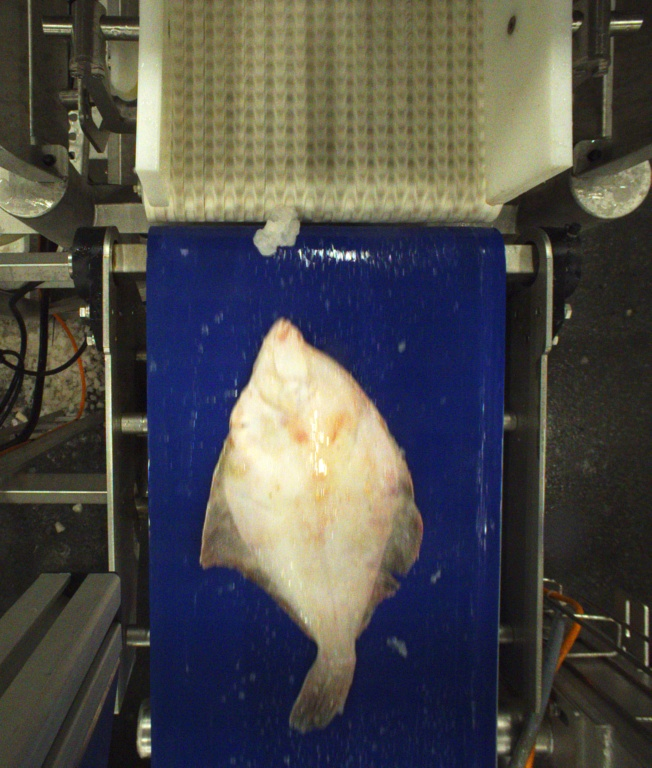PLE: (196, 315, 423, 731)
